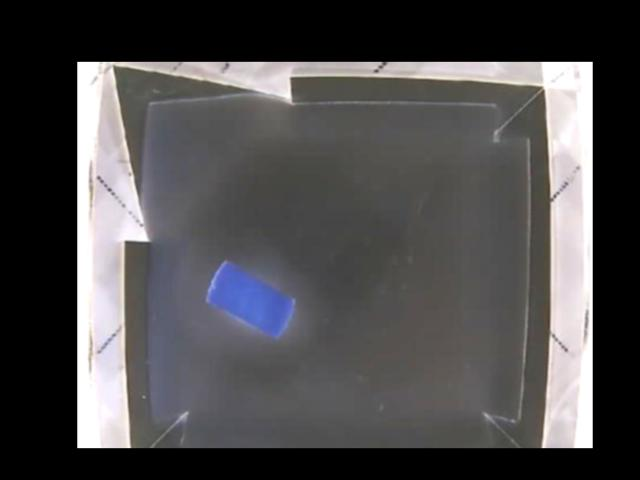Potato: (207, 260, 295, 333)
